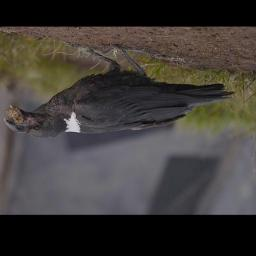Crow: (2, 41, 238, 142)
